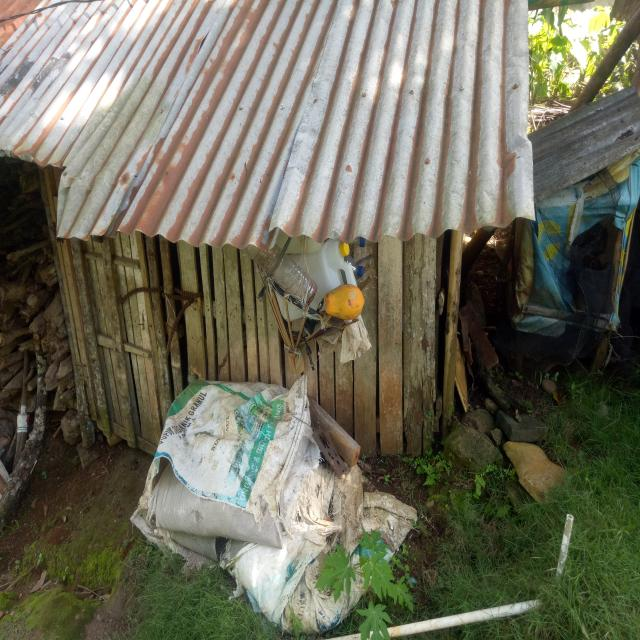Pepaya rippen: (313, 281, 363, 325)
